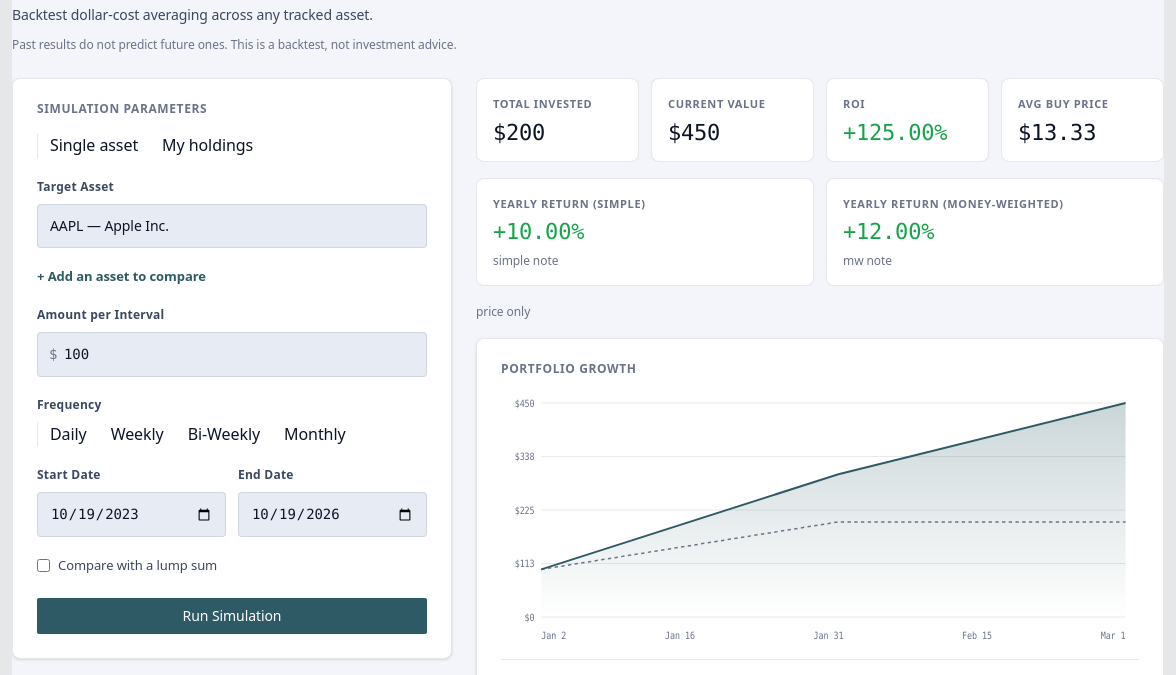
Scenario: DCASimulation lump-sum comparison › is off by default and shows the lump-sum figures, verdict, note and legend when turned on
The width and height of the screenshot is (1176, 675).
Check: the text "mw note" is shown, box [843, 252, 892, 268]
Click the checkbox labelled "Compare with a lump sum": (44, 565) [37, 559, 50, 572]
(page scrolled)
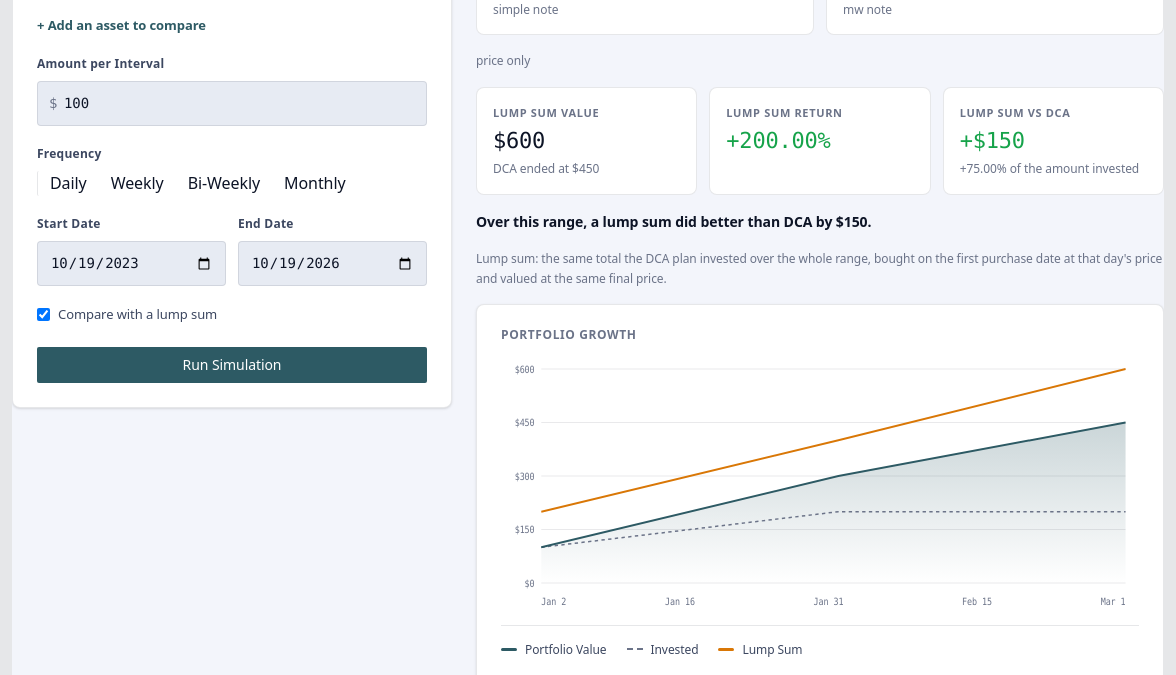
Check: the element with test id "lump-sum-kpis" shows "$600", box [493, 126, 545, 155]
Check: the element with test id "lump-sum-kpis" shows "+200.00%", box [726, 126, 830, 155]
Check: the element with test id "lump-sum-kpis" shows "+$150", box [960, 126, 1025, 155]
